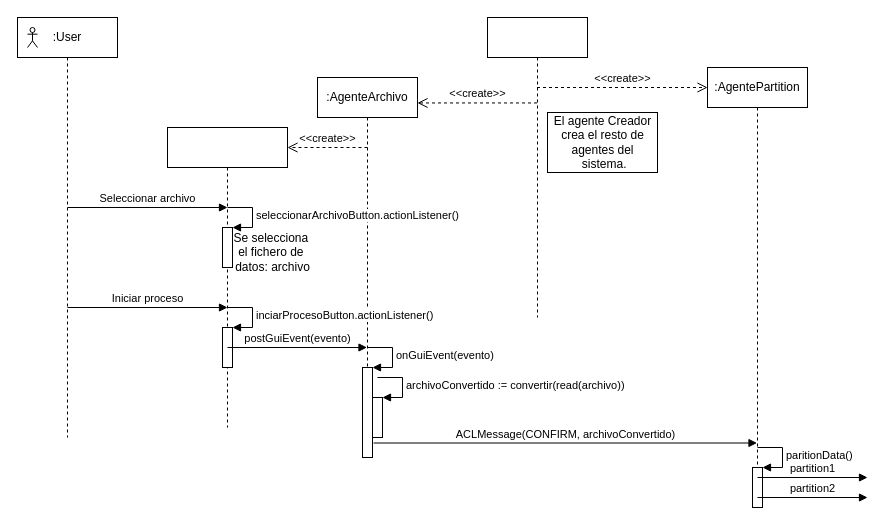
This 893x525 diagram has some shape labels left out. Each missing label, with the box of its shape:
:AgenteCreador: (486, 16, 588, 318)
:JfrmAgenteArchivo: (166, 126, 288, 428)
